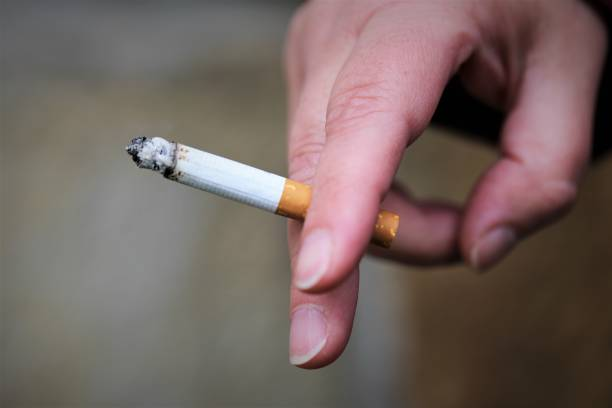cigarette: (124, 134, 399, 251)
